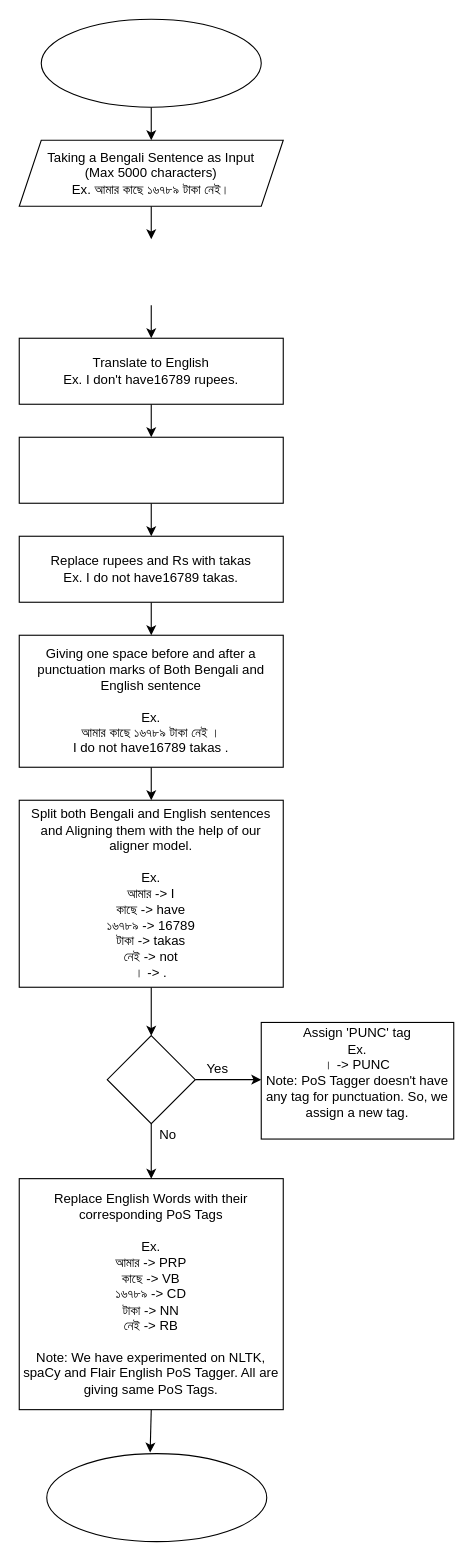
This 473x1561 diagram has some shape labels left out. The shapes that lost their labels are listed below. From the top down, each one's centre as x and y in pixels, then its label:
At (x=150, y=62): "Start".
At (x=150, y=469): "Decontracting Words Ex. I do not have 16789 rupees.".
At (x=150, y=1079): "Is it a punctuation mark?".
At (x=156, y=1497): "End".
